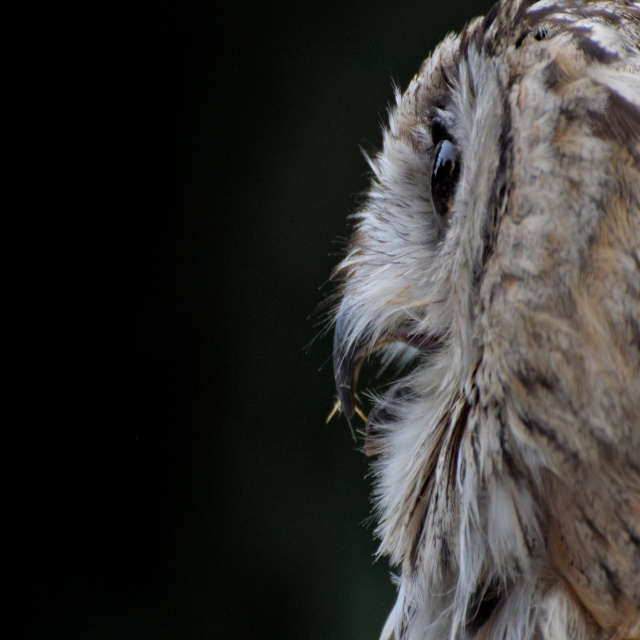Owl: (308, 0, 640, 639)
